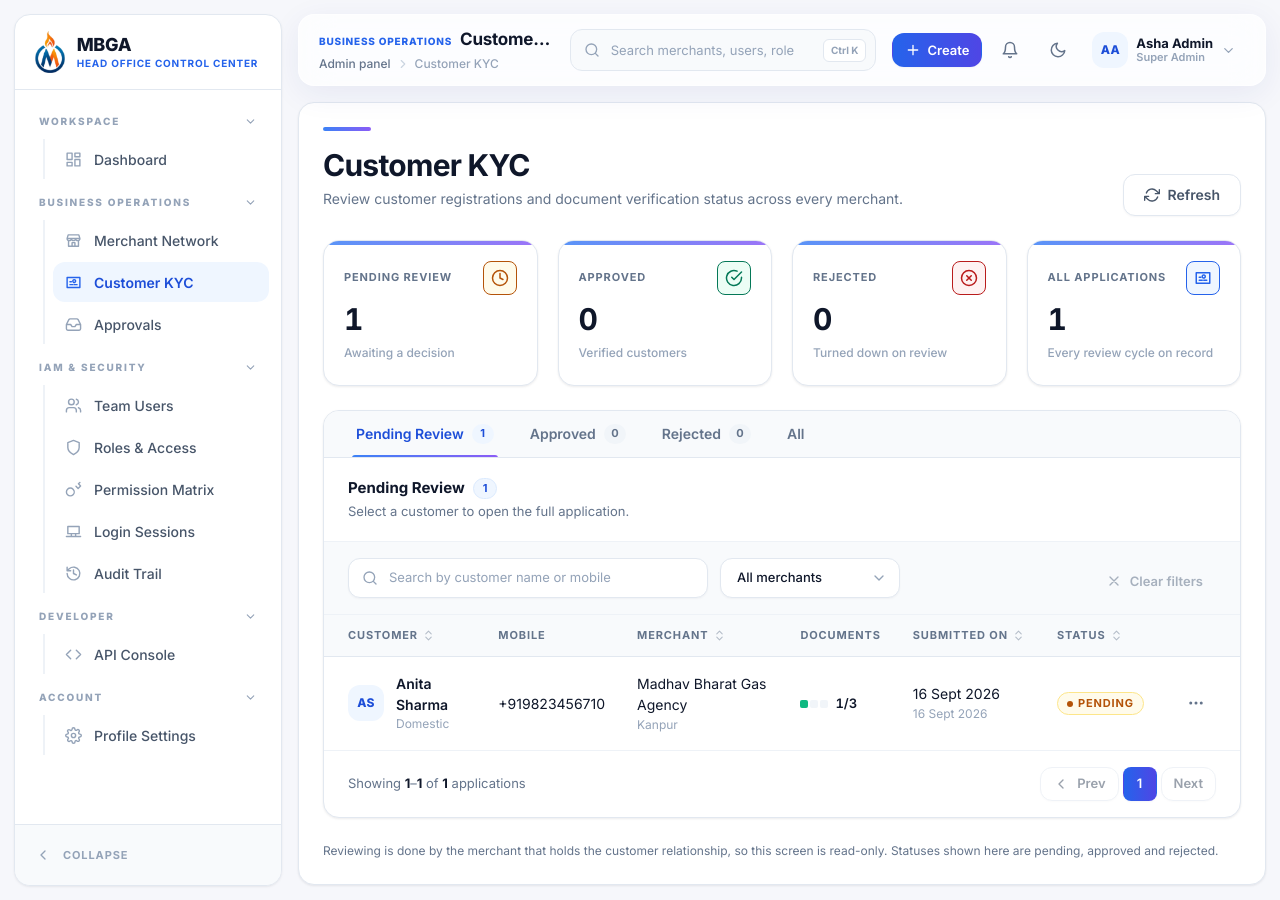
Test case: features without a backend API › opens one KYC application on its own page
Click the link "Anita Sharma" at x=422, y=694, box [396, 675, 448, 713]
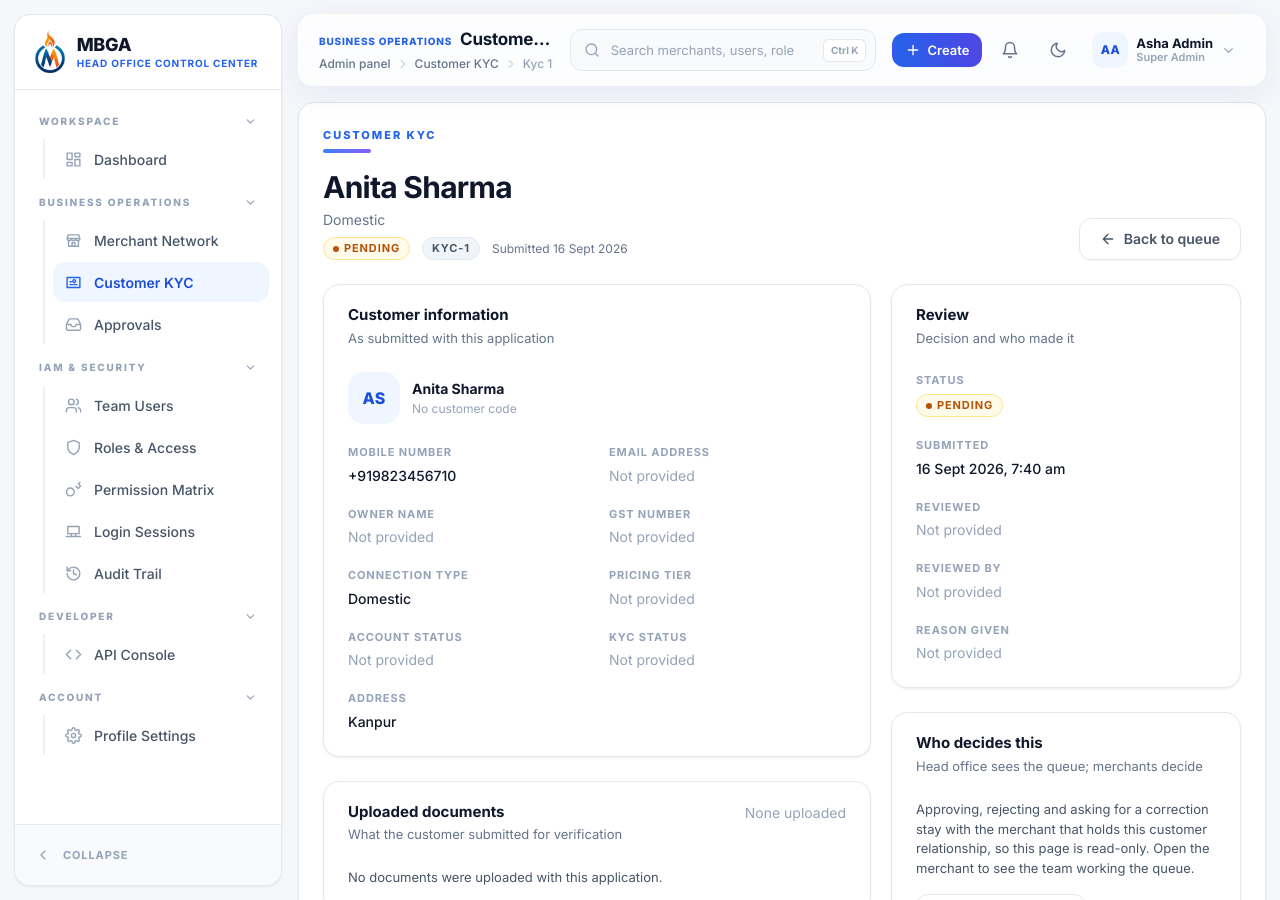
Now the heading "Anita Sharma" is shown, box [323, 168, 512, 204]
